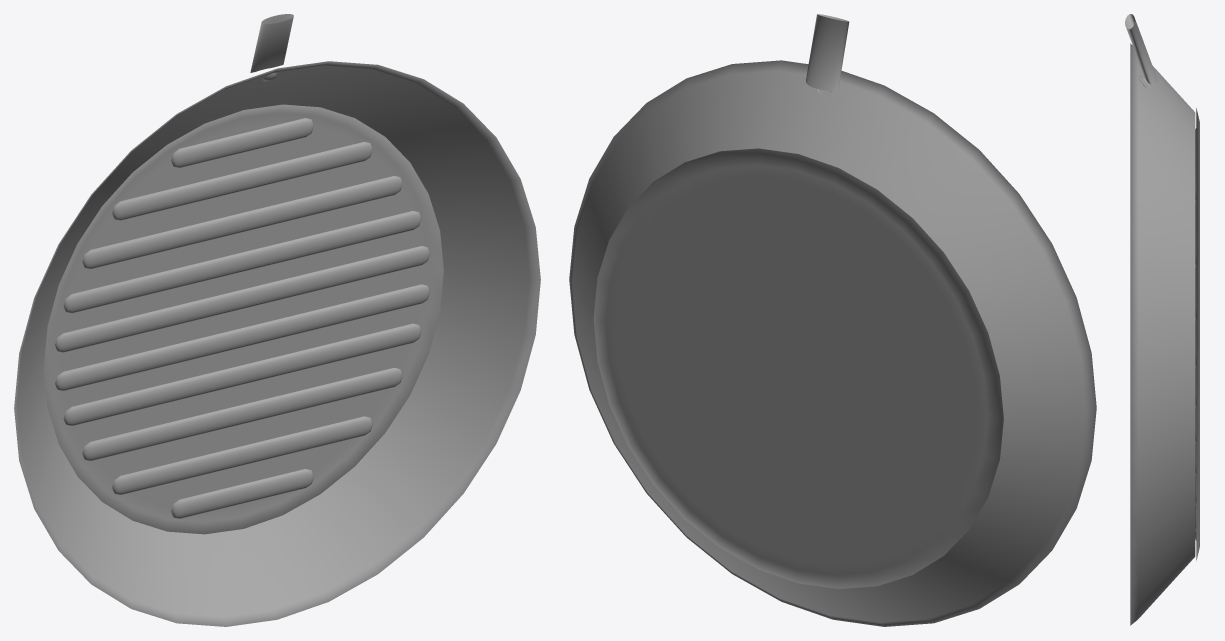
File: MeshPan_25_0_GeomSubset_0.obj
3 views of the same model, side by side, from view 1: azimuth 30°, elevation 25°; view 2: azimuth 150°, elevation 25°; view 3: azimuth 270°, elevation 25° (orthographic). The views are drawn at different scales.
Parts seen in each view (by area): view 1: MeshPan_25_0_GeomSubset_0; view 2: MeshPan_25_0_GeomSubset_0; view 3: MeshPan_25_0_GeomSubset_0.
Boxes of the visible parts, box(x1,y1,x2,y2) form: MeshPan_25_0_GeomSubset_0: box(14, 14, 540, 626); MeshPan_25_0_GeomSubset_0: box(569, 14, 1096, 626); MeshPan_25_0_GeomSubset_0: box(1125, 14, 1199, 625).
Bounding box in the file's own units: 0.277 × 0.3026 × 0.0407.
